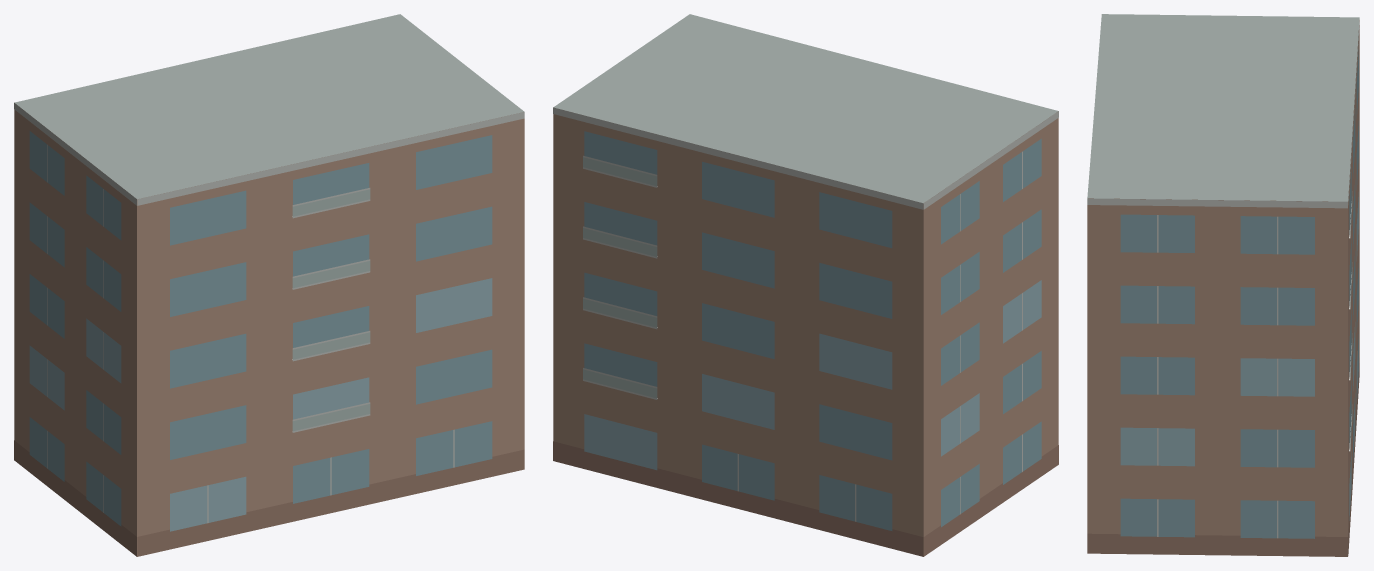
The model's file is survey-upis-32836131.glb.
The picture shows the model from 3 angles, left to right: view 1: azimuth 30°, elevation 25°; view 2: azimuth 150°, elevation 25°; view 3: azimuth 270°, elevation 25°; orthographic projection.
Visible parts, largest first — view 1: survey-upis-32836131.tmp; view 2: survey-upis-32836131.tmp; view 3: survey-upis-32836131.tmp.
Boxes of the visible parts, box(x1,y1,x2,y2) form: survey-upis-32836131.tmp: box(14, 14, 524, 556); survey-upis-32836131.tmp: box(553, 14, 1058, 556); survey-upis-32836131.tmp: box(1087, 14, 1359, 556).
Bounding box in the file's own units: 14.86 × 13.1 × 9.11.
